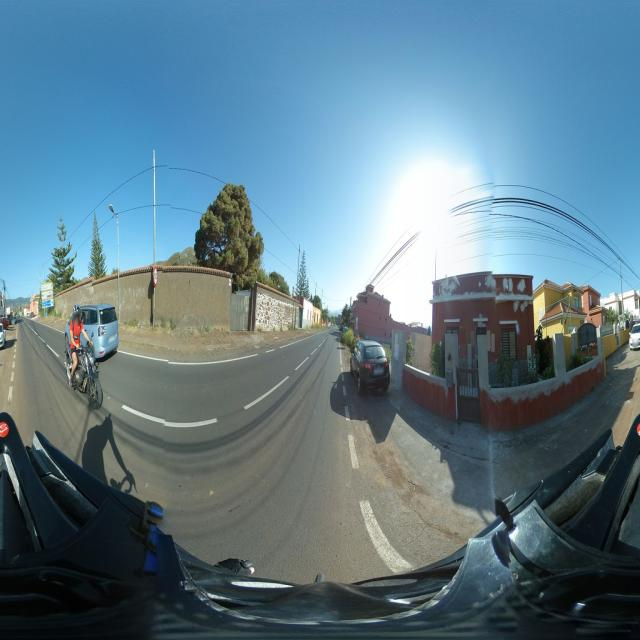bike: (64, 320, 95, 392)
car: (66, 303, 120, 364), (354, 340, 390, 394), (628, 322, 640, 350), (0, 316, 6, 350)
